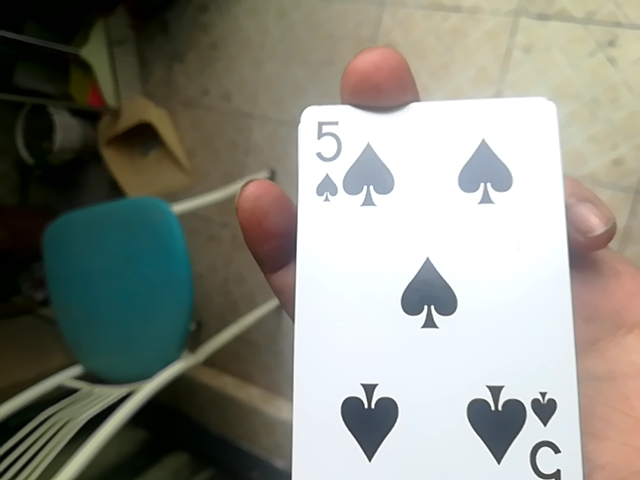ht 5: (296, 92, 585, 479)
